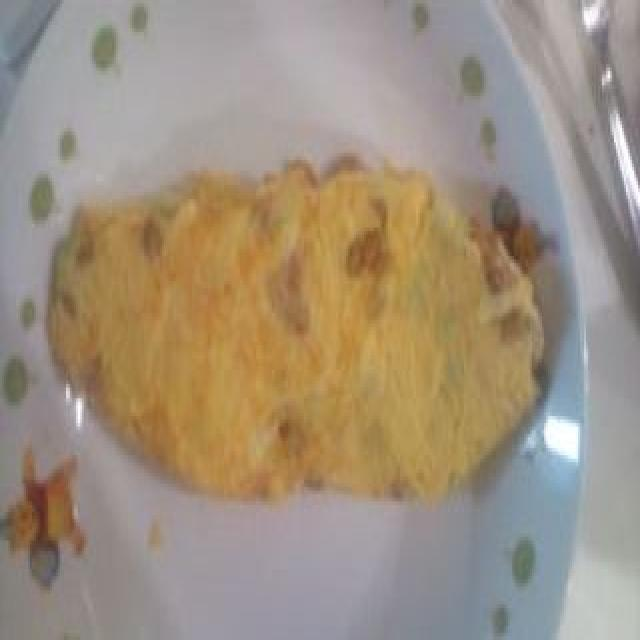Omelet: (56, 164, 552, 506)
